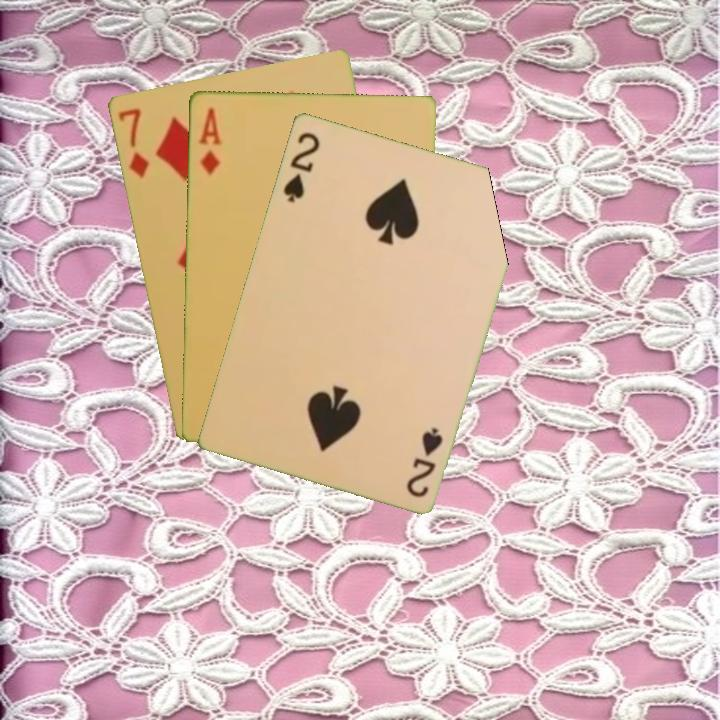2s: (279, 128, 323, 205), (402, 423, 446, 500)
7d: (114, 104, 152, 181)
Ad: (195, 103, 225, 178)
